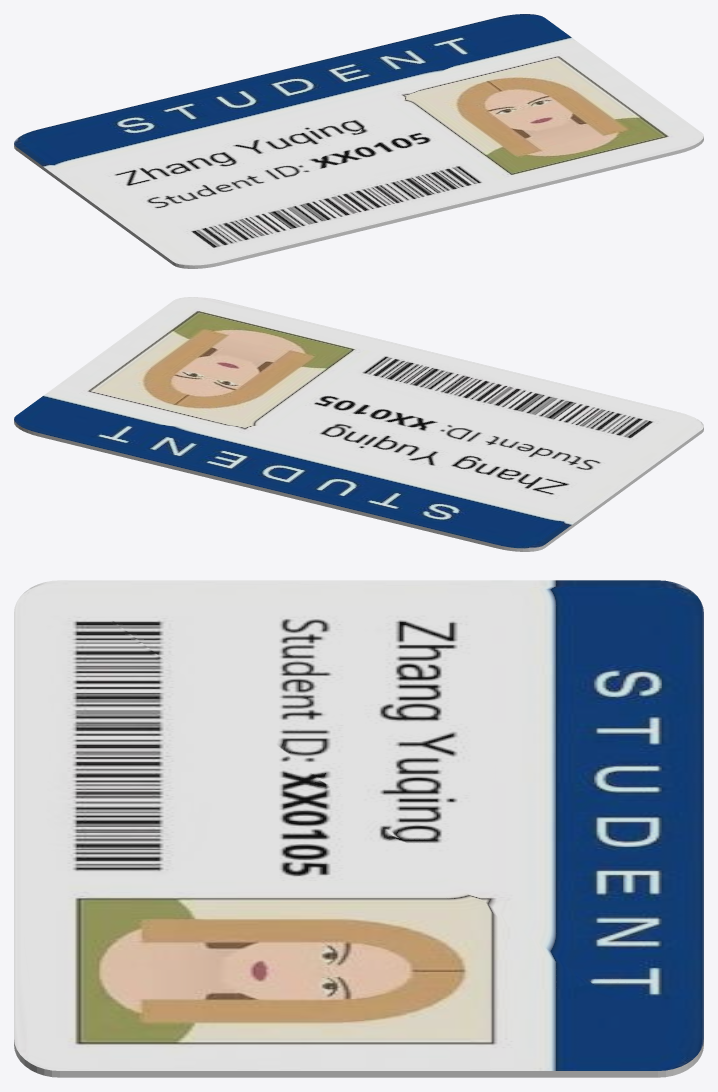
Rendered from Student ID.fbx.
3 renders of one model, top to bottom at view 1: azimuth 30°, elevation 25°; view 2: azimuth 150°, elevation 25°; view 3: azimuth 270°, elevation 25°, orthographic. The views are drawn at different scales.
Visible parts, largest first — view 1: 平面; view 2: 平面; view 3: 平面.
Part boxes in pixels (x1=…): 平面: x1=14, y1=14, x2=703, y2=268; 平面: x1=14, y1=297, x2=703, y2=551; 平面: x1=14, y1=580, x2=703, y2=1077.
Size of the model in its own units: 17.29 by 0.1087 by 10.27.
